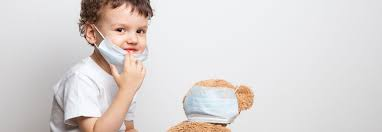mask_weared_incorrect: (106, 18, 150, 68)
